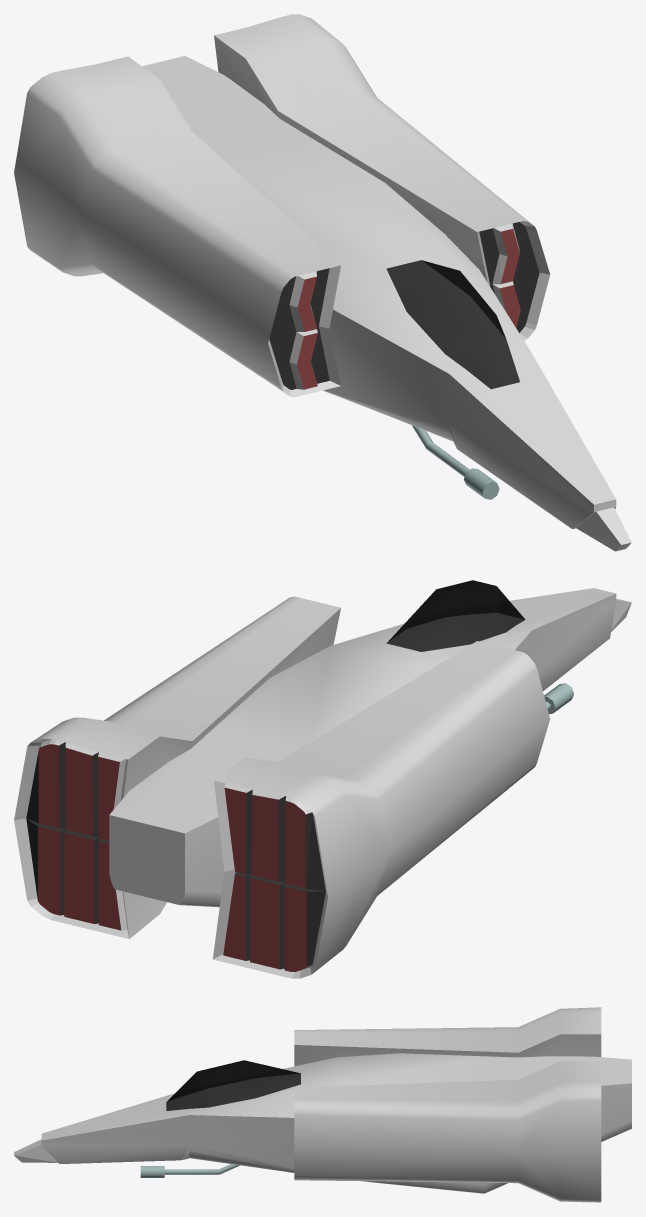
Rendered from Caza UNE Rotate.fbx.
3 views of the same model, one above another, from view 1: azimuth 30°, elevation 25°; view 2: azimuth 150°, elevation 25°; view 3: azimuth 270°, elevation 25° (orthographic). The views are drawn at different scales.
Parts seen in each view (by area): view 1: Box001, Box003, Box002, Box004; view 2: Box003, Box001, Box002, Box004, Cylinder004; view 3: Box002, Box001, Box003, Box004, Cylinder001, Cylinder002.
Boxes of the visible parts, box(x1,y1,x2,y2) form: Box001: box(142, 56, 631, 551); Box003: box(14, 56, 340, 397); Box002: box(214, 14, 550, 340); Box004: box(386, 260, 519, 389); Box003: box(212, 641, 550, 978); Box001: box(109, 588, 631, 907); Box002: box(14, 596, 340, 938); Box004: box(386, 580, 525, 651); Cylinder004: box(544, 683, 573, 714); Box002: box(294, 1061, 601, 1202); Box001: box(14, 1053, 631, 1193); Box003: box(294, 1007, 601, 1066); Box004: box(166, 1060, 300, 1110); Cylinder001: box(164, 1164, 239, 1174); Cylinder002: box(140, 1166, 164, 1177).
Size of the model in its own units: 126 by 74.87 by 334.
